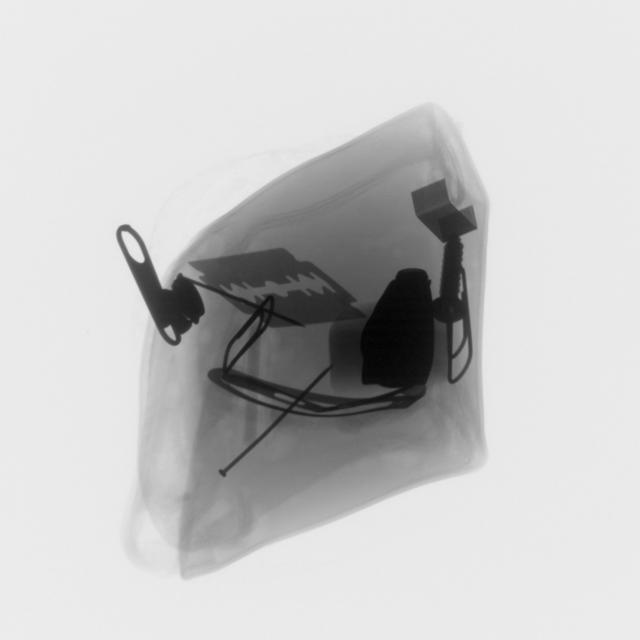razor: (185, 247, 371, 329)
snail: (213, 361, 334, 477), (431, 229, 468, 330)
